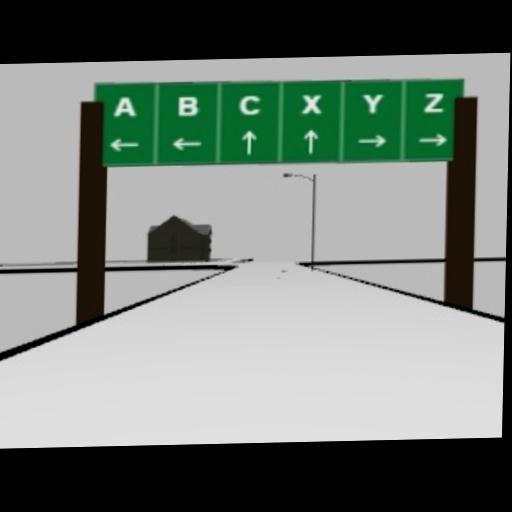A: (111, 94, 136, 116)
B: (176, 95, 197, 115)
C: (238, 93, 261, 114)
Left: (170, 135, 202, 150), (107, 137, 138, 152)
Right: (416, 131, 447, 146), (356, 132, 387, 147)
Straight: (302, 128, 318, 152), (241, 129, 256, 154)
X: (301, 92, 320, 112)
Y: (361, 92, 384, 113)
Z: (422, 91, 445, 112)
